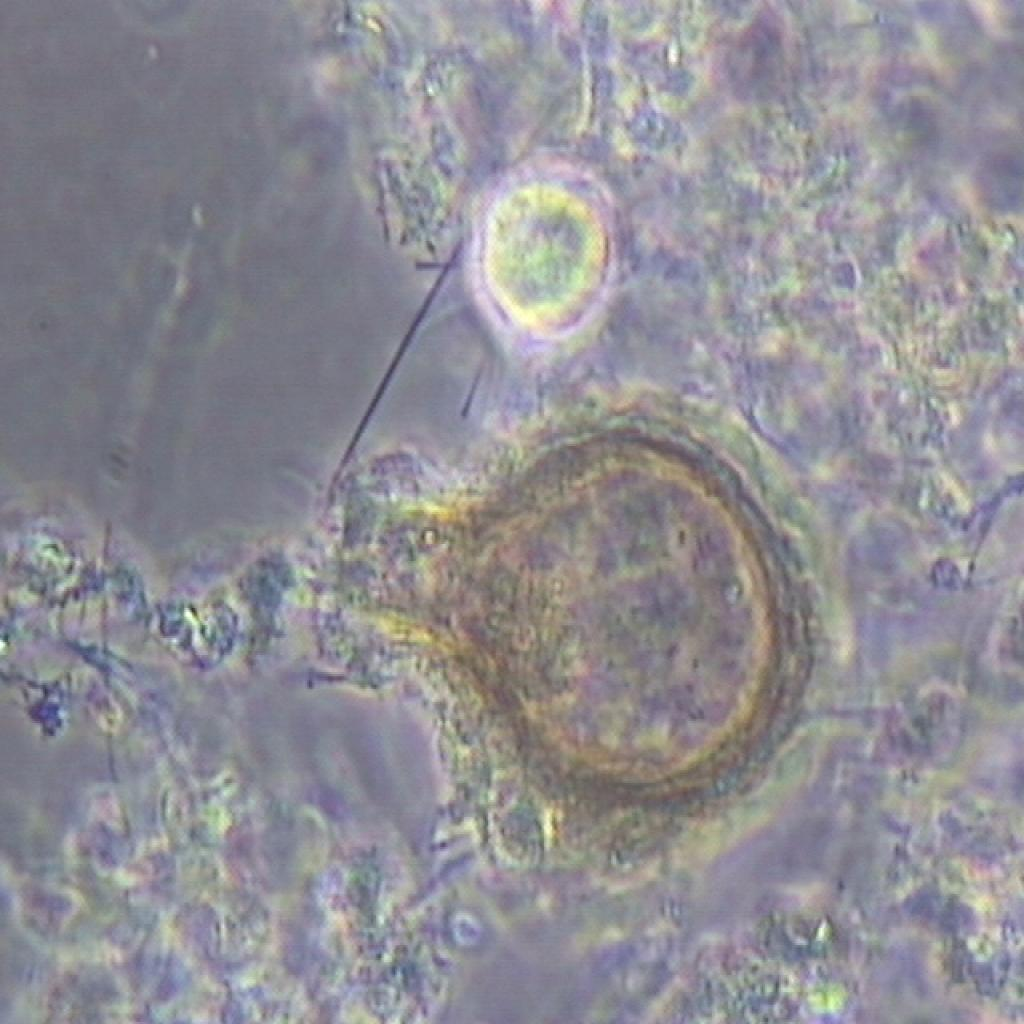Chaetopira: (248, 418, 813, 851)
